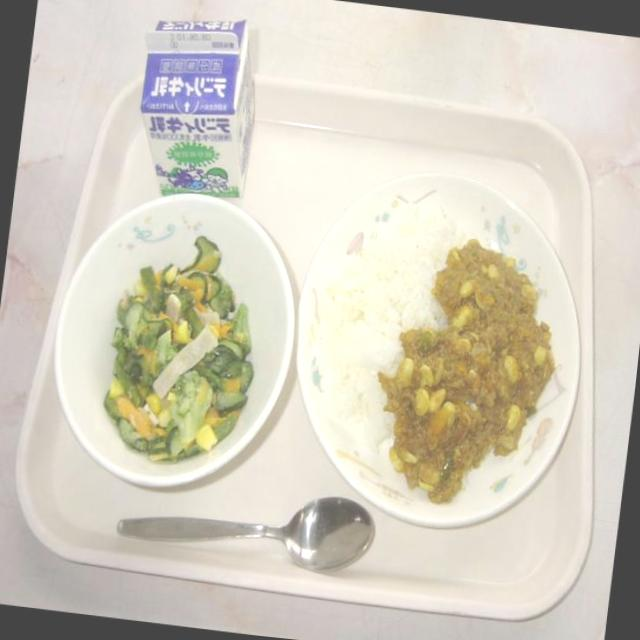Beef Curry: (376, 238, 548, 490)
Green Salad: (103, 250, 253, 456)
